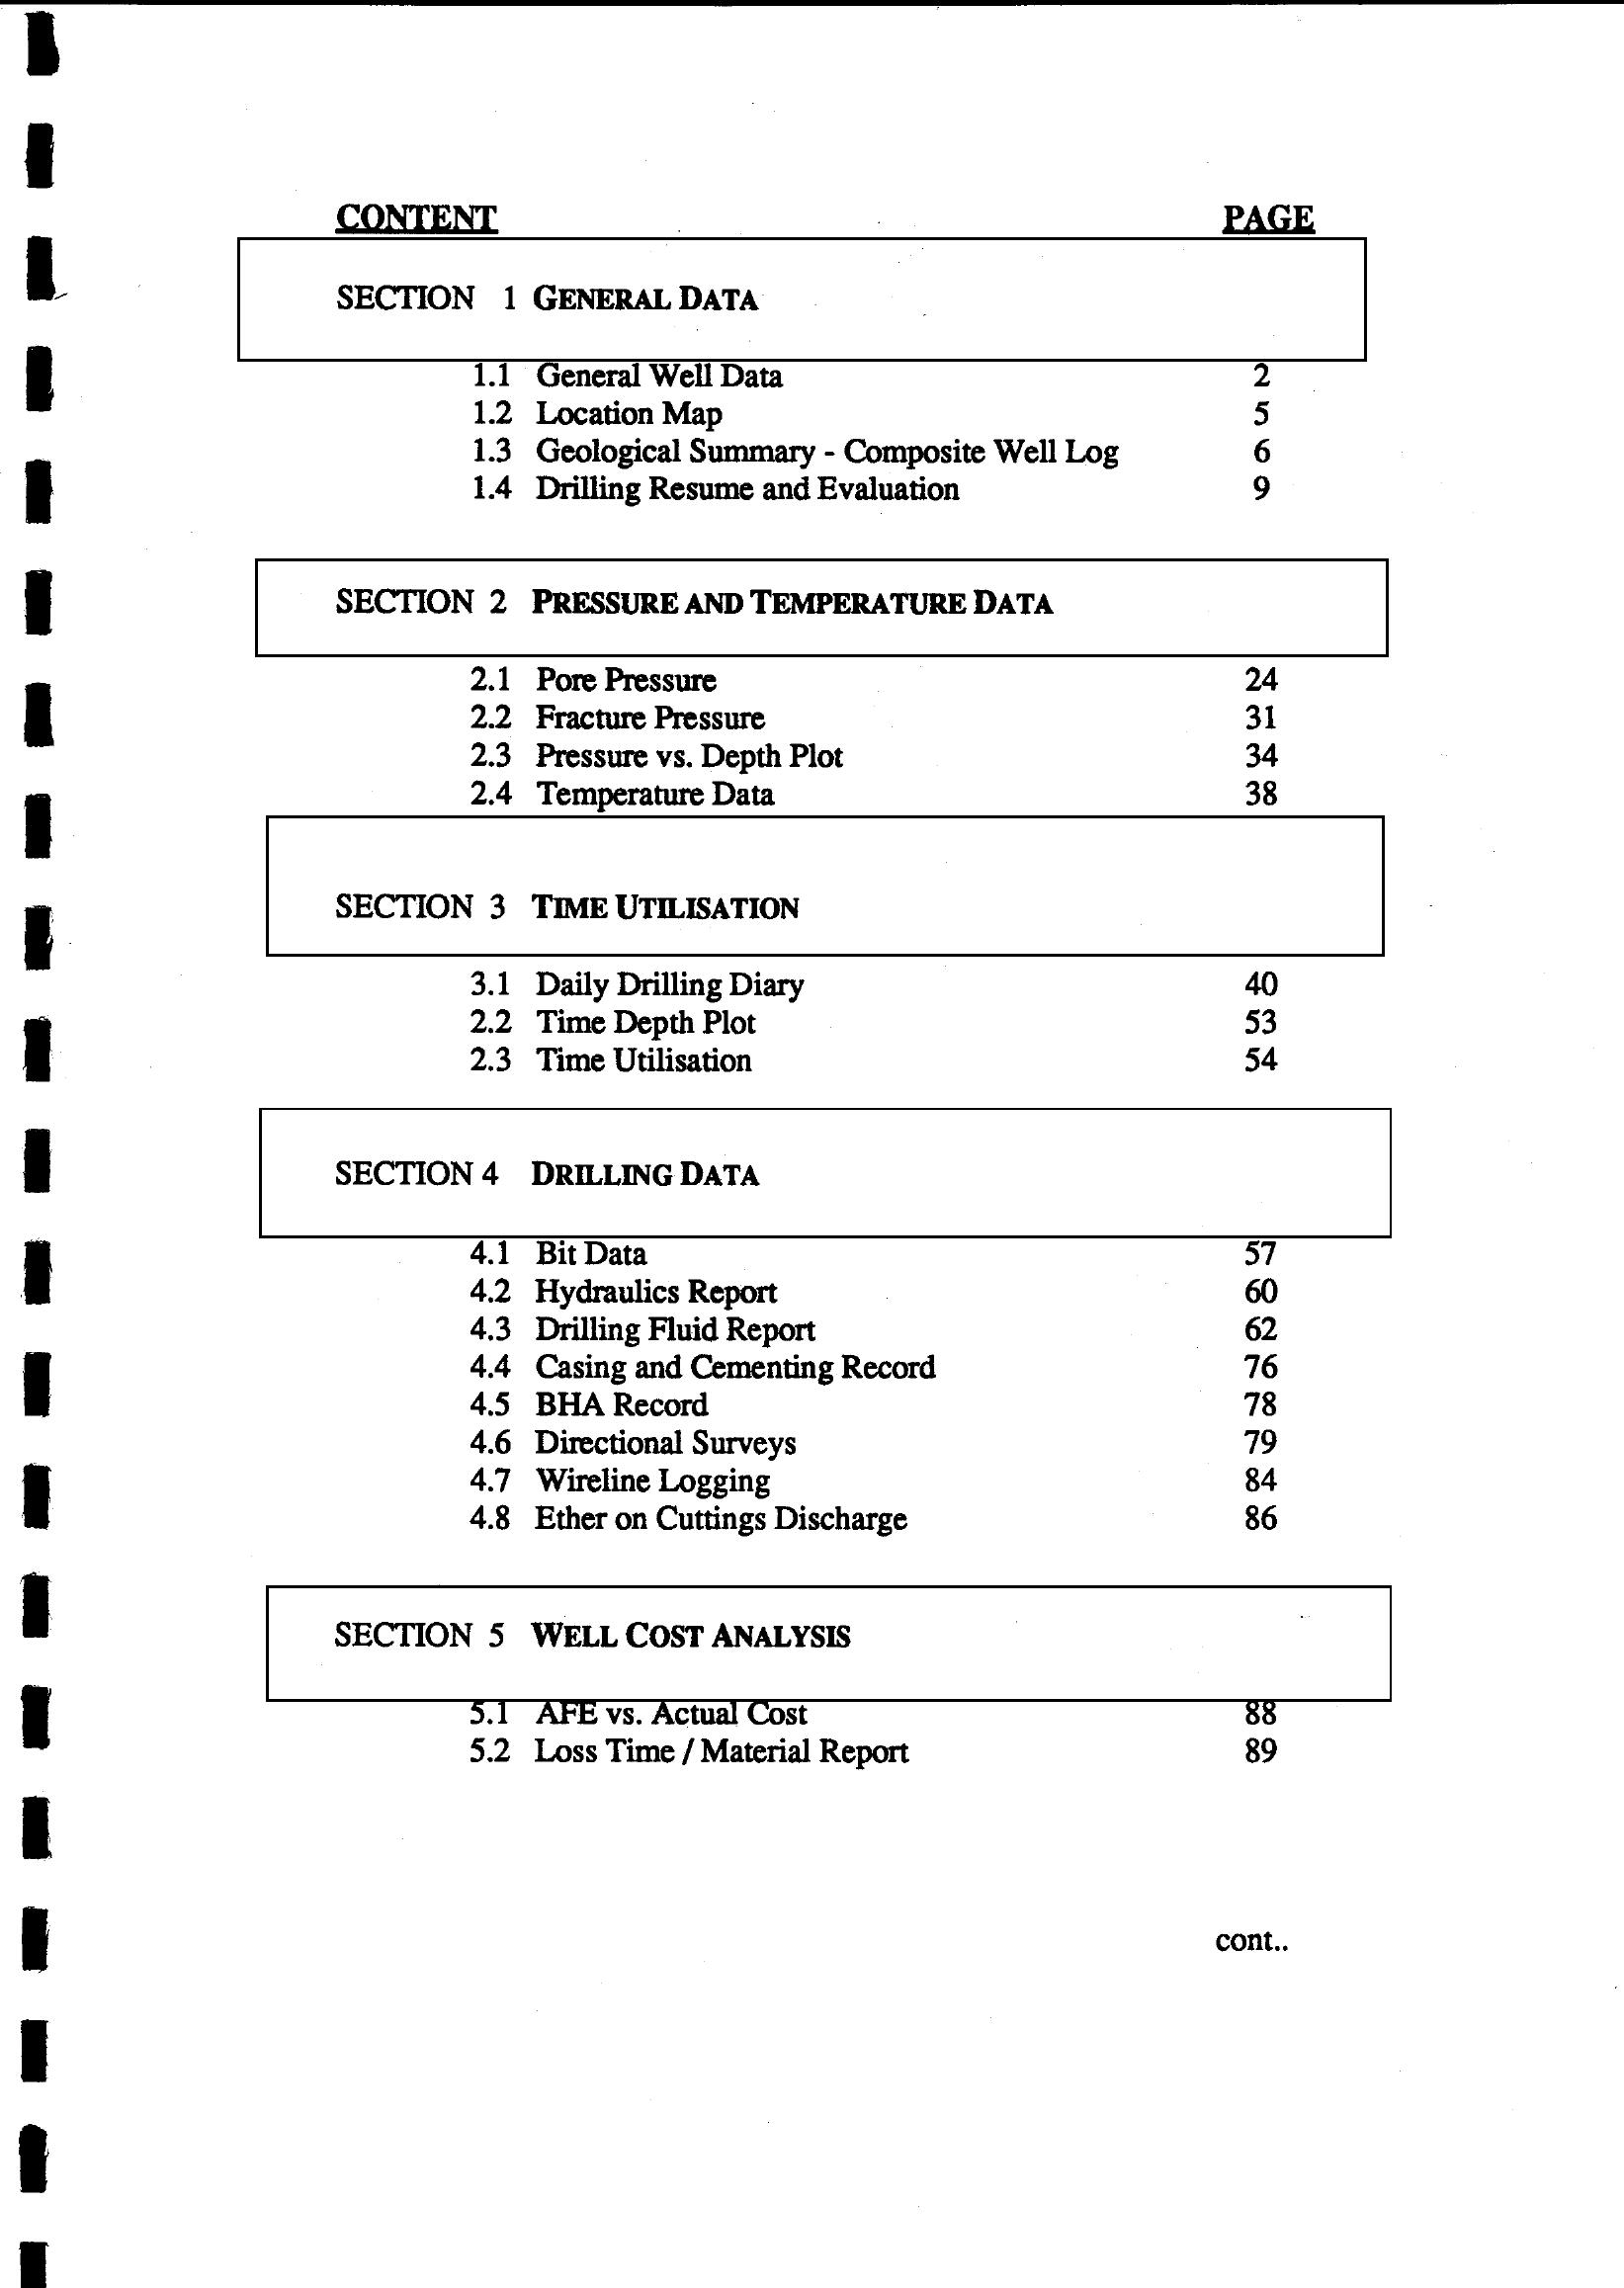text: (209, 172, 1459, 1819)
